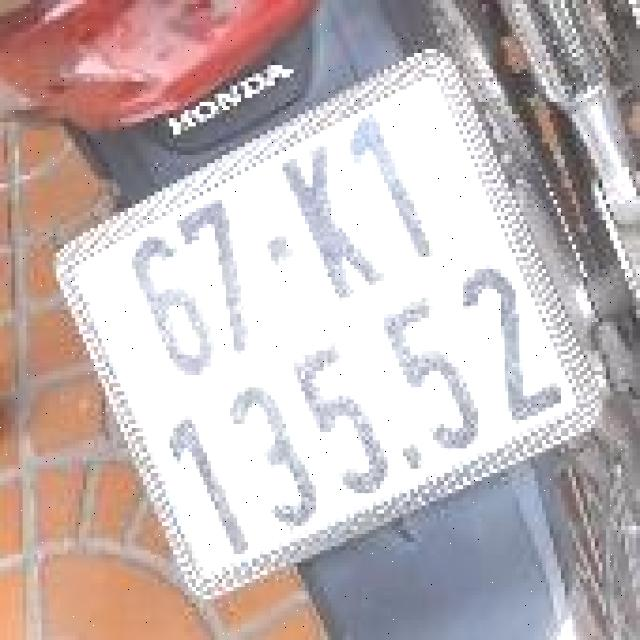1: (335, 96, 460, 284), (153, 393, 264, 564)
2: (444, 245, 573, 436)
3: (205, 360, 336, 539)
5: (362, 284, 493, 468), (277, 326, 405, 512)
6: (117, 220, 231, 388)
7: (163, 186, 272, 365)
K: (267, 131, 395, 314)
